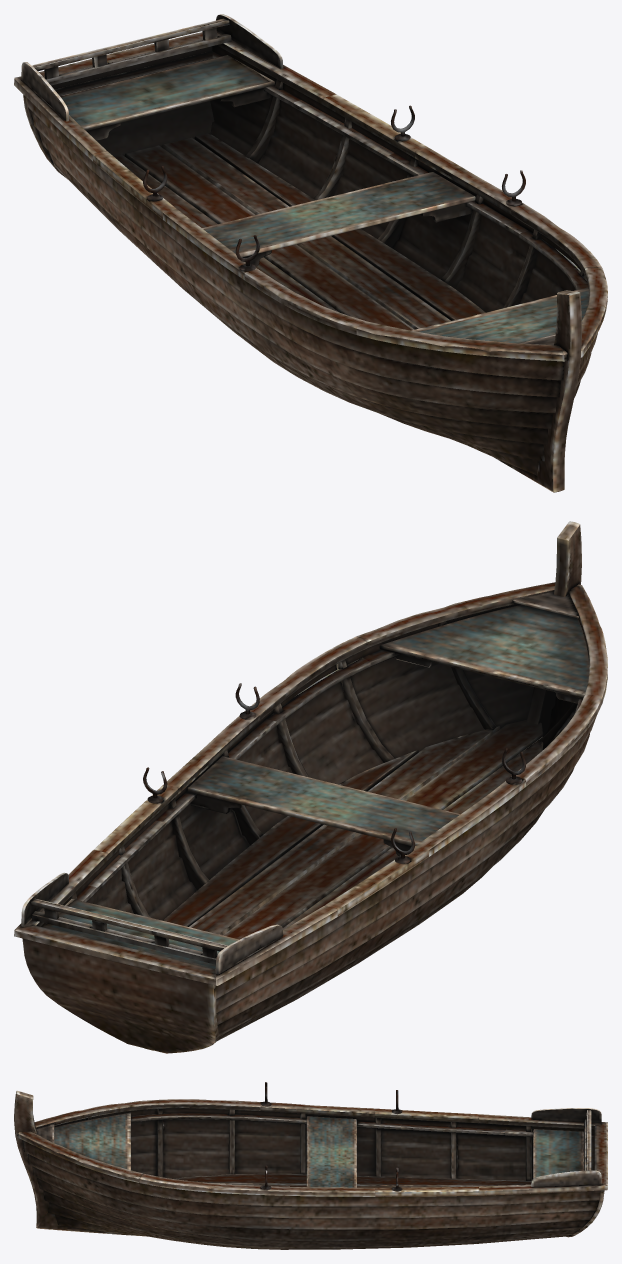
The model's file is boat.FBX.
The picture shows the model from 3 angles, top to bottom: view 1: azimuth 30°, elevation 25°; view 2: azimuth 150°, elevation 25°; view 3: azimuth 270°, elevation 25°; orthographic projection. The views are drawn at different scales.
Parts seen in each view (by area): view 1: Boat; view 2: Boat; view 3: Boat.
Part boxes in pixels (x1,y1,x2,y2): Boat: (14, 14, 607, 492); Boat: (14, 521, 607, 1053); Boat: (14, 1082, 607, 1249).
Bounding box in the file's own units: 85.32 × 65.38 × 236.
